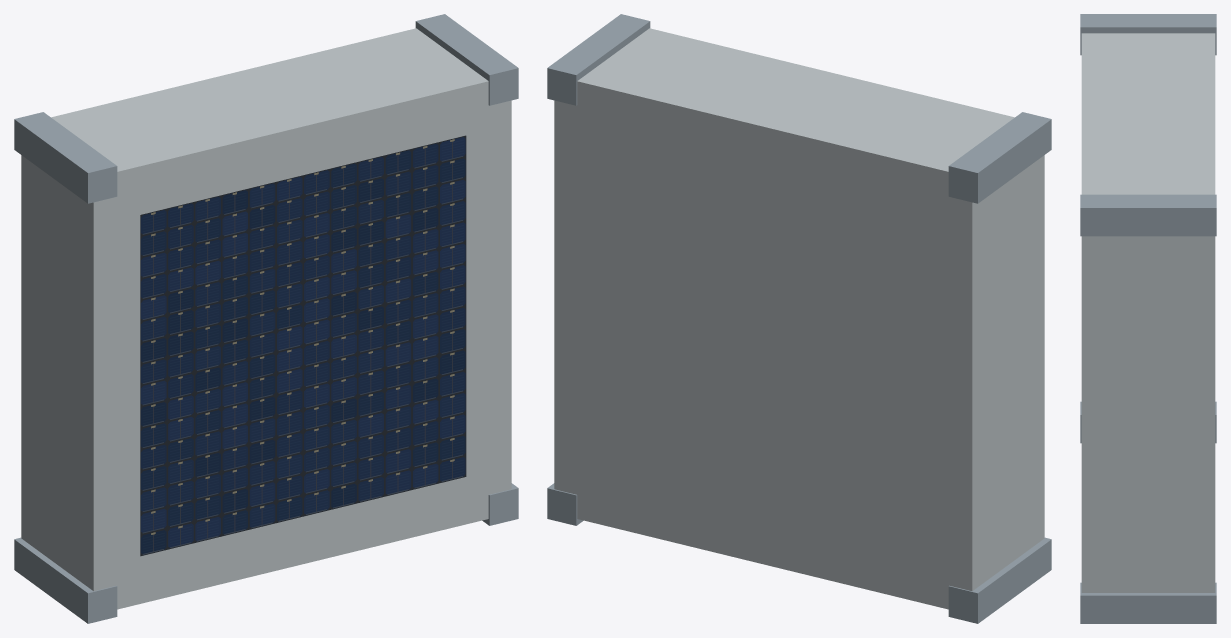
The model's file is ref-cubesat-0-3u-48082.glb.
The picture shows the model from 3 angles, left to right: view 1: azimuth 30°, elevation 25°; view 2: azimuth 150°, elevation 25°; view 3: azimuth 270°, elevation 25°; orthographic projection. The views are drawn at different scales.
Visible parts, largest first — view 1: Spacecraft body, Body-mounted cells, Dispenser rail (×4); view 2: Spacecraft body, Dispenser rail (×4); view 3: Spacecraft body, Dispenser rail (×3).
Part boxes in pixels (x1,y1,x2,y2): Spacecraft body: (21, 28, 511, 609); Body-mounted cells: (140, 135, 466, 556); Dispenser rail (×4): (14, 14, 518, 623); Spacecraft body: (554, 28, 1044, 609); Dispenser rail (×4): (547, 14, 1051, 623); Spacecraft body: (1081, 33, 1215, 592); Dispenser rail (×3): (1080, 14, 1216, 623).
Size of the model in its own units: 0.103 by 0.103 by 0.0306.
Materials: 3 (1 with a texture image).
